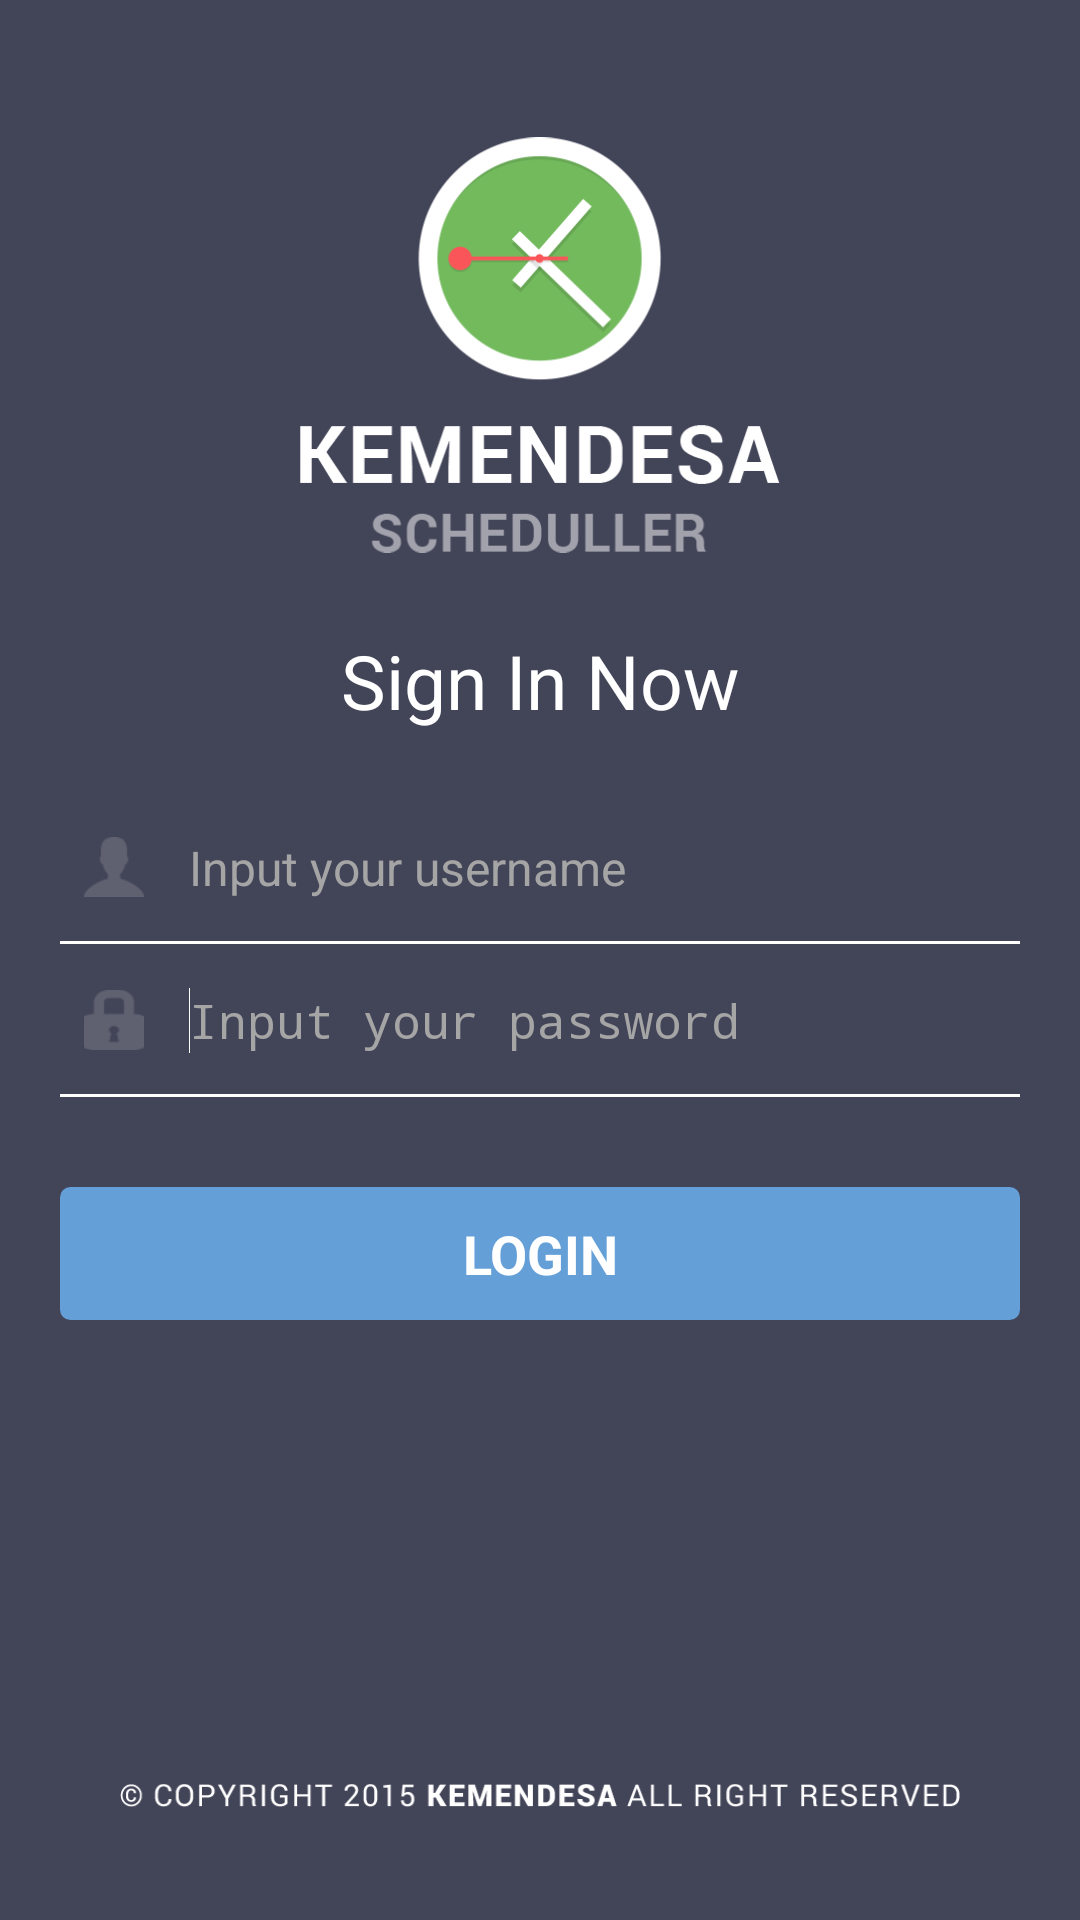

Where to tap for icons on this 1080x1920 app screen, as (x=x, y=y):
lock: (x=114, y=1020)
